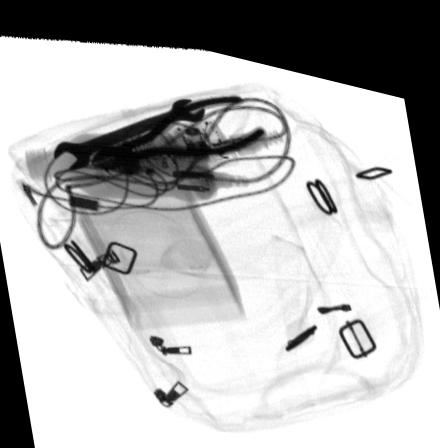Pliers: (88, 83, 269, 166)
Wrench: (51, 89, 205, 168)
